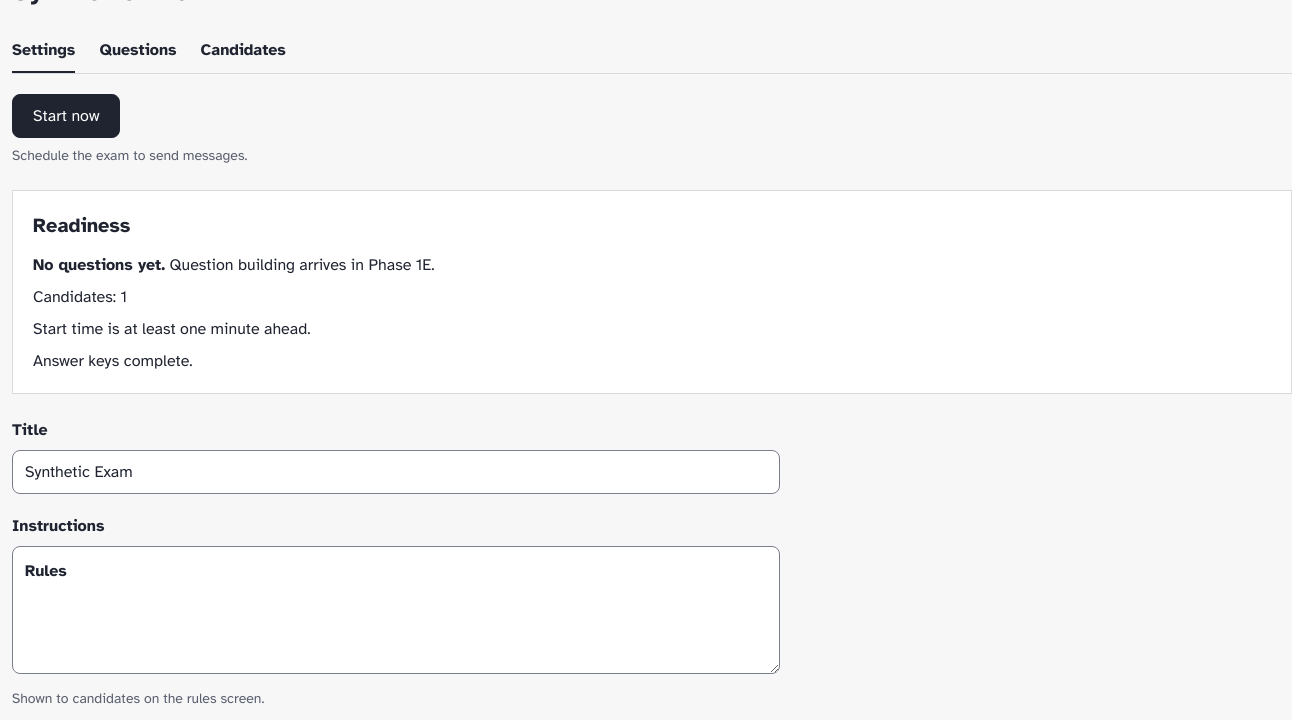
Test case: ExamForm › shows Section 2C readiness and converts Colombo time on save
Expected: the text "No questions yet." is shown, [33, 255, 165, 275]
Replace the text in the field labelled "Title" with "Updated": (396, 472) [12, 450, 780, 494]
(page scrolled)
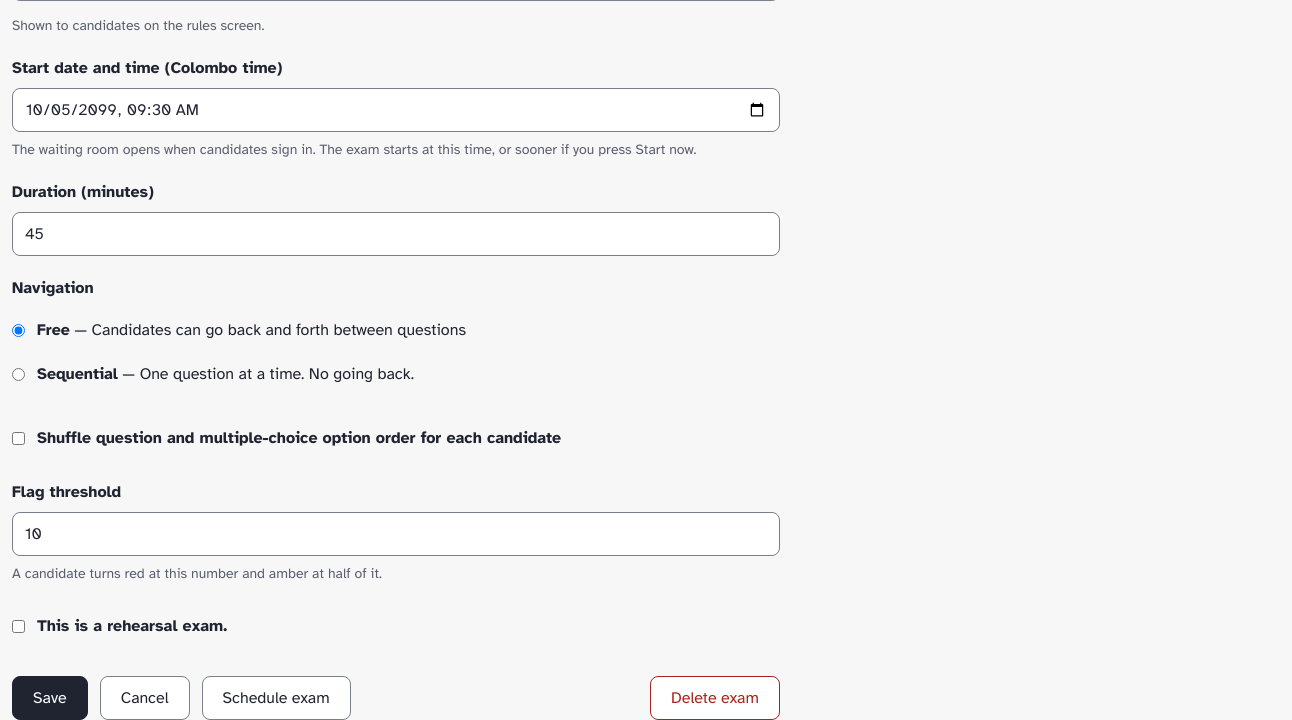
Click the button "Save": (50, 698) [12, 676, 88, 719]
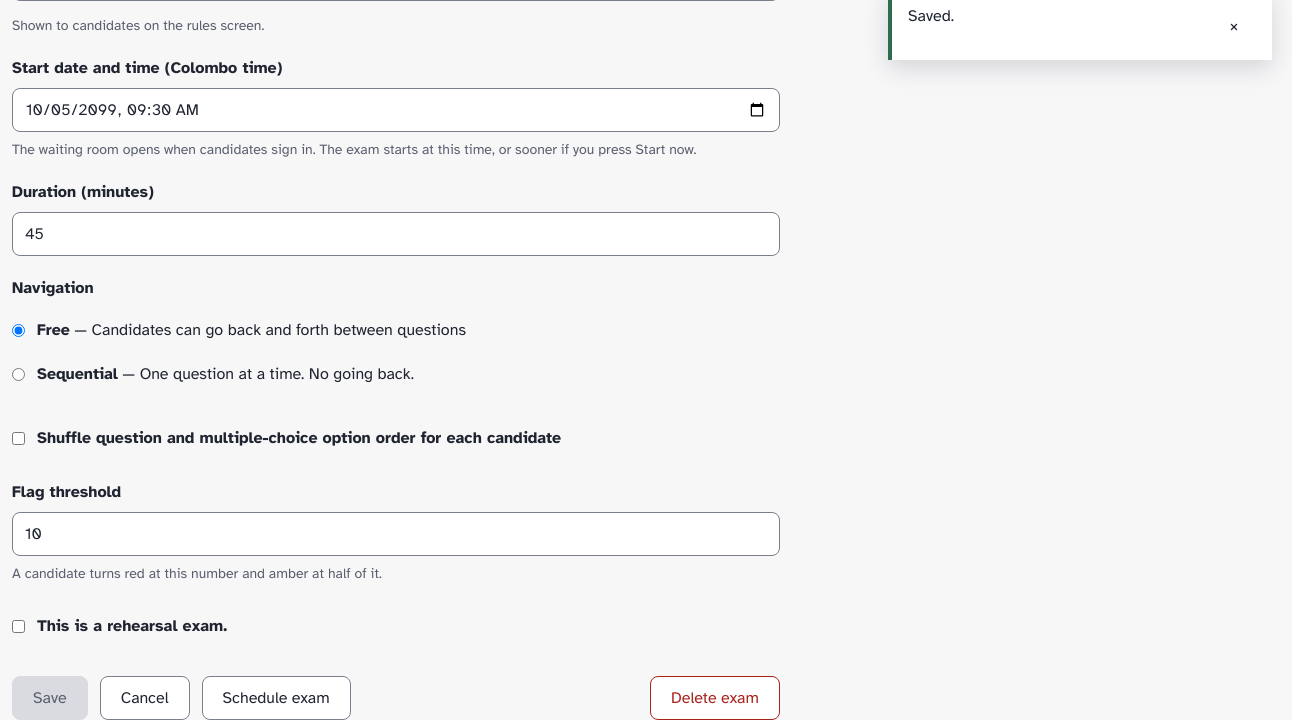
Expected: the text "Saved." is shown, [908, 4, 954, 28]
